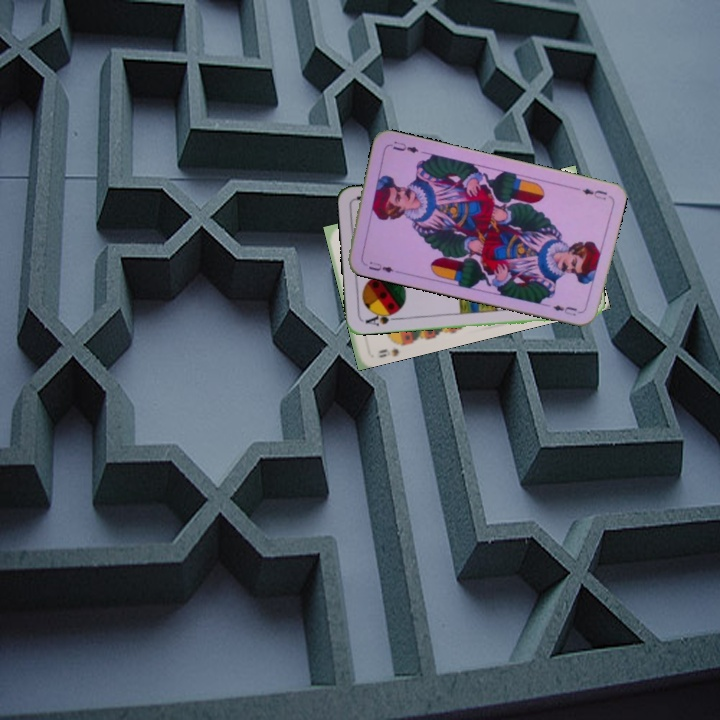EU: (359, 257, 396, 275), (578, 184, 610, 202)
S9: (375, 337, 409, 356)
SA: (361, 308, 401, 329)
